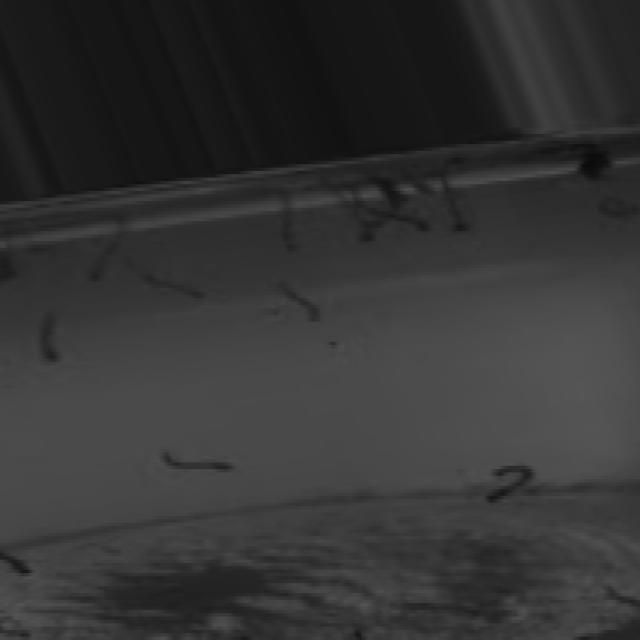larvas: (331, 178, 379, 249), (140, 264, 201, 307), (92, 207, 126, 284), (370, 198, 429, 237), (162, 448, 234, 478), (486, 462, 530, 510), (549, 144, 612, 175), (283, 276, 322, 325), (443, 172, 466, 237), (602, 191, 639, 225), (603, 580, 640, 610), (382, 174, 408, 210), (0, 537, 26, 572), (283, 194, 300, 246), (39, 311, 55, 362), (3, 609, 29, 640), (416, 171, 440, 199)
